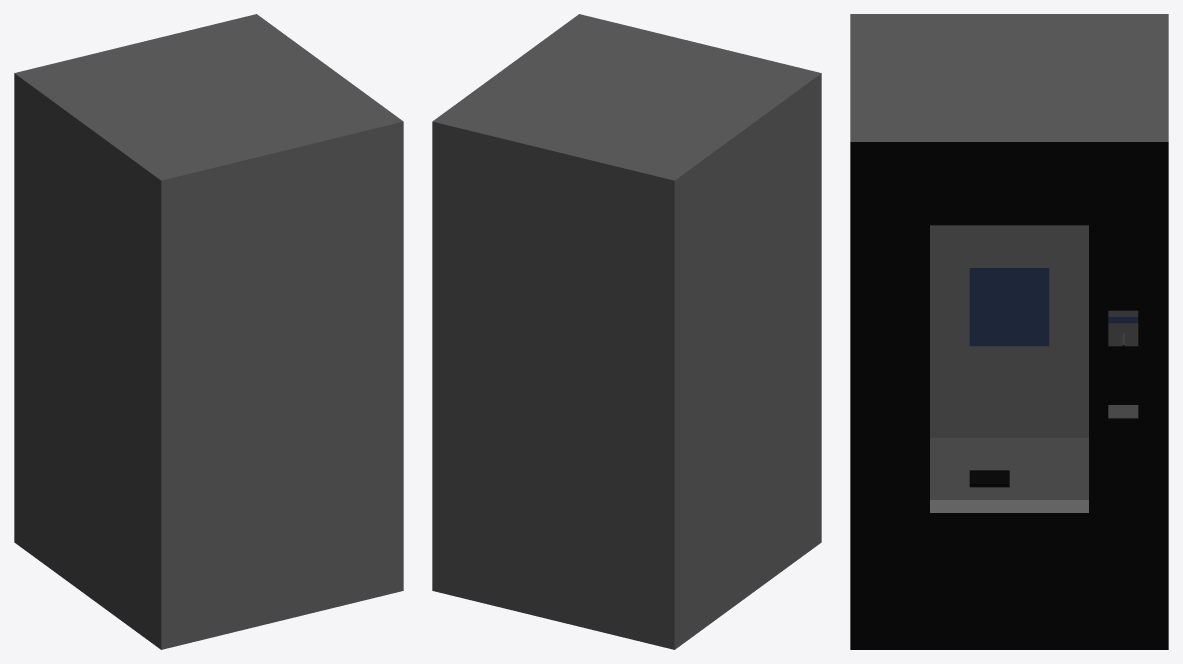
Rendered from Koffieautomaat_eetzaal_morgbeka.glb.
3 renders of one model, left to right at view 1: azimuth 30°, elevation 25°; view 2: azimuth 150°, elevation 25°; view 3: azimuth 270°, elevation 25°, orthographic. The views are drawn at different scales.
Parts seen in each view (by area): view 1: Cube; view 2: Cube; view 3: Cube.
Part boxes in pixels (left/top/right/bottom): Cube: left=14, top=14, right=403, bottom=649; Cube: left=432, top=14, right=821, bottom=649; Cube: left=850, top=14, right=1168, bottom=649.
Bounding box in the file's own units: 1.01 × 1.85 × 1.05.
